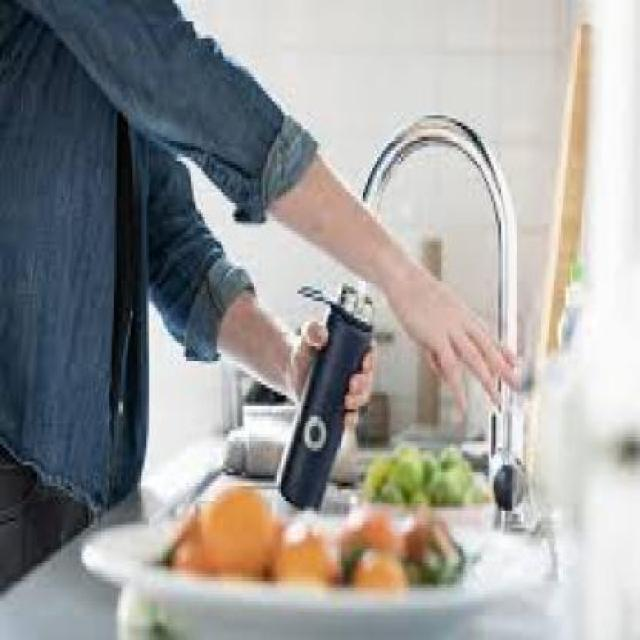Drinking: (270, 256, 378, 522)
